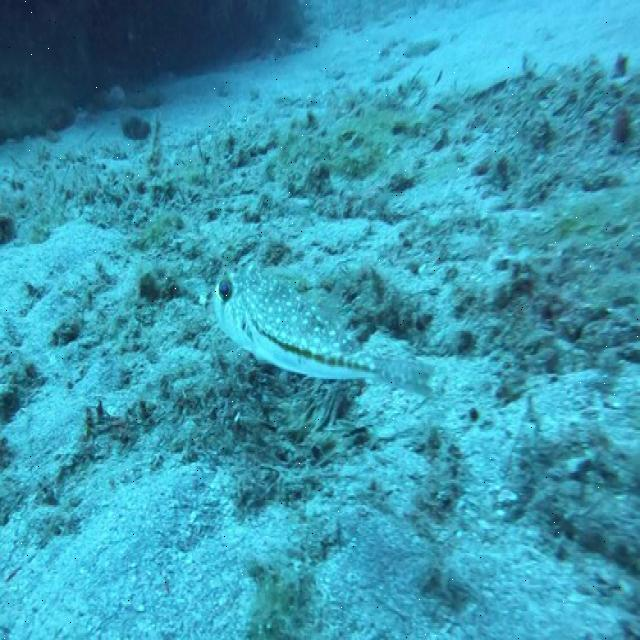Balik: (214, 265, 431, 394)
